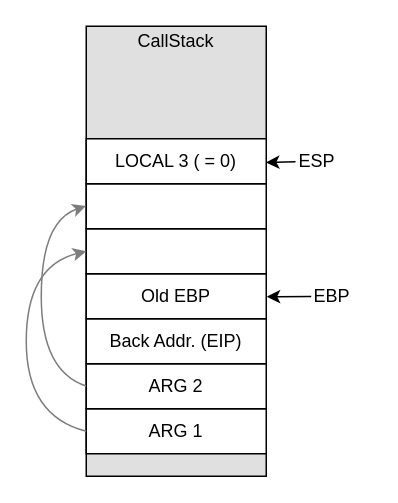
The diagram is 398 pixels wide and 503 high, and some of its shapes have lost their labels. The centre of each missing label's shape, as x and y in pixels:
"LOCAL 1" belongs at [175,250].
"LOCAL 2" belongs at [175,205].
